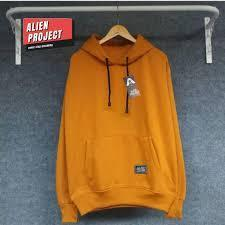sweater: (53, 35, 185, 225)
